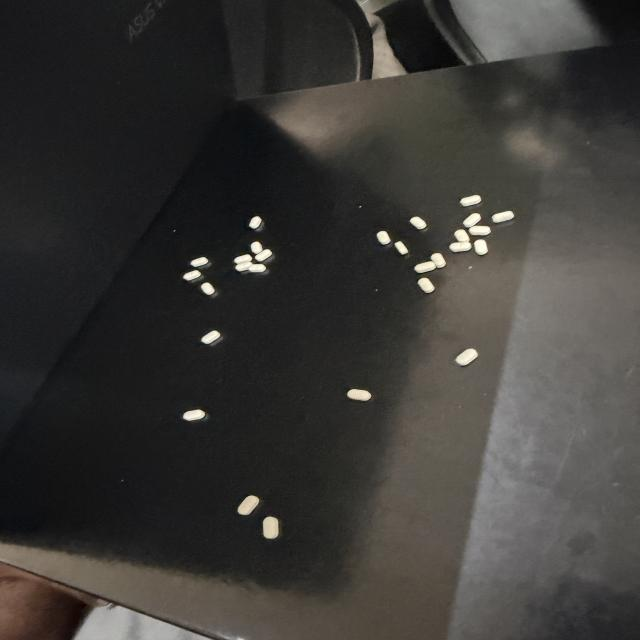pill: (238, 496, 259, 515), (456, 349, 478, 366), (263, 517, 279, 539), (347, 389, 371, 401), (492, 210, 514, 223), (460, 194, 481, 207), (463, 213, 481, 228), (183, 409, 205, 421), (414, 261, 436, 273), (201, 331, 220, 344), (418, 278, 434, 293), (431, 253, 446, 268), (474, 239, 488, 255), (450, 242, 471, 252), (410, 217, 427, 229), (248, 216, 262, 230), (454, 229, 469, 242), (256, 249, 272, 261), (469, 226, 490, 235), (377, 231, 390, 245), (183, 270, 201, 280), (191, 257, 208, 267), (395, 241, 408, 254), (201, 283, 215, 295), (234, 254, 252, 263), (235, 262, 251, 271), (249, 264, 266, 272), (251, 241, 262, 253)
